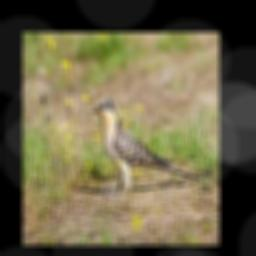Cuckoo: (91, 97, 200, 193)
